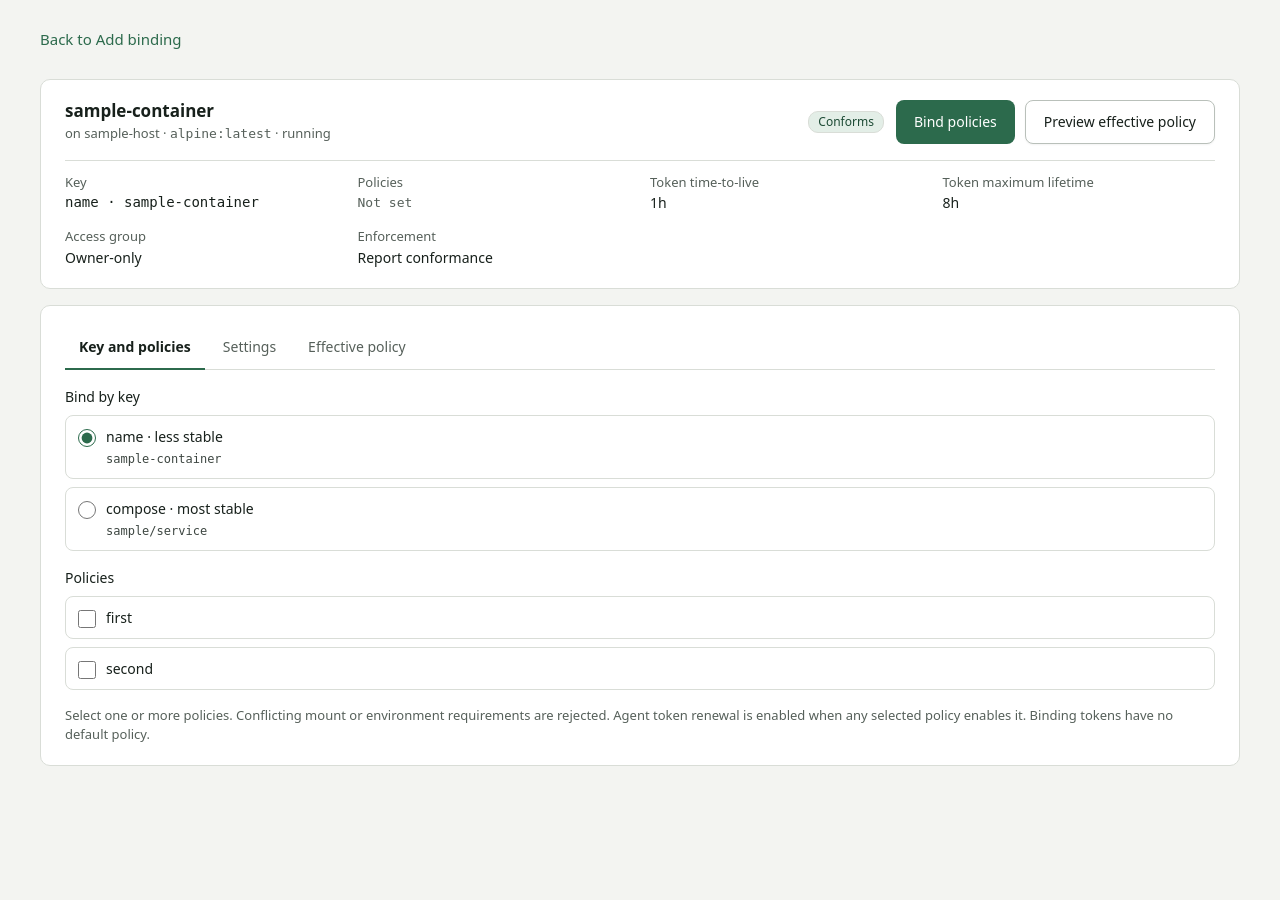
Test: tab structure › sends the same fields to the preview from a hidden settings tab
Click the button "Preview effective policy" at (1120, 122), box x1=1025 y1=100 x2=1215 y2=144
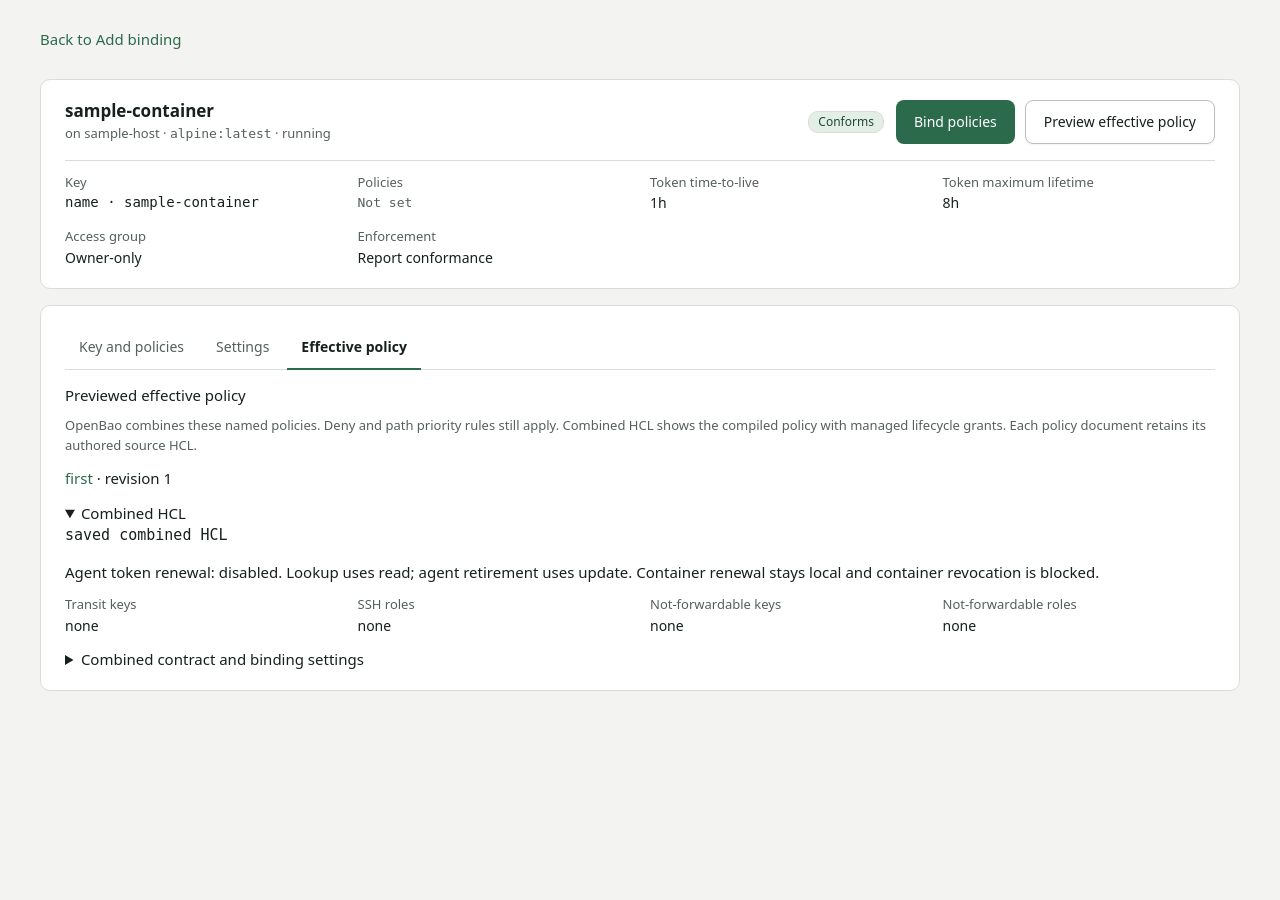
Expected: the tab "Effective policy" is shown, x1=287 y1=326 x2=421 y2=370
Expected: the text "saved combined HCL" is shown, x1=65 y1=526 x2=228 y2=544
